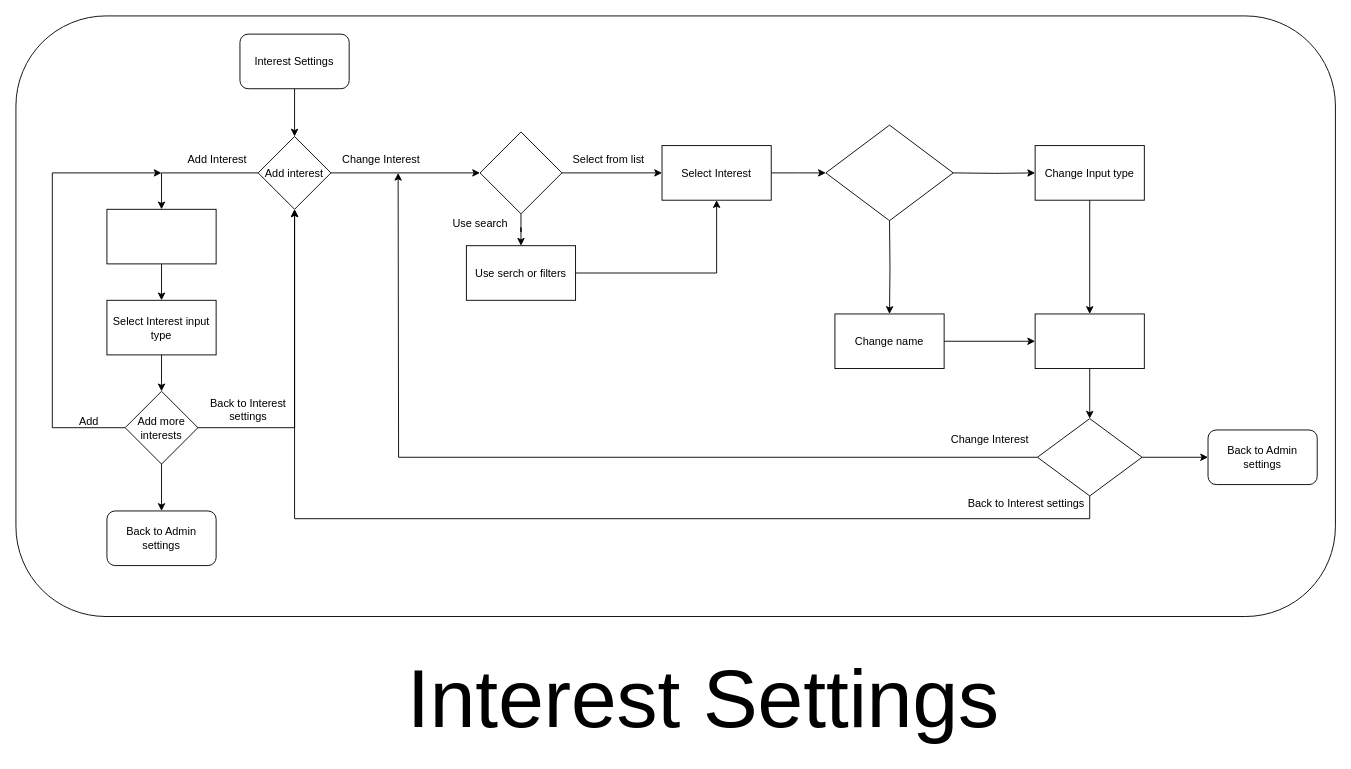
Image size: 1351x769. Some labels were removed from this diagram. The shapes that lost their labels are listed below. From the top down, each one's centre as x and y in pixels, then its label:
At point 520,172: "Search for interest".
At point 889,172: "Chang Name or Input".
At point 161,236: "Enter name of new Interest".
At point 1089,341: "Sent notification to users to update their interest".
At point 1089,457: "Change more Interests".
